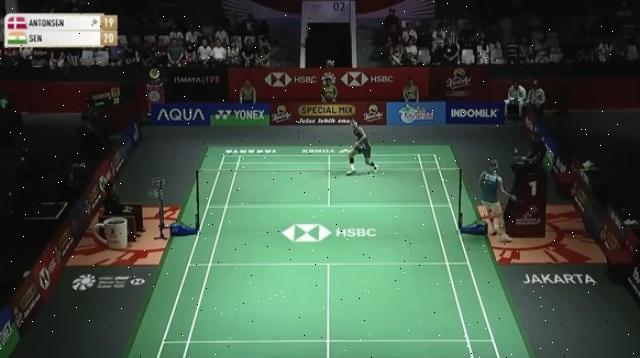Shuttlecock: (238, 156, 250, 162)
